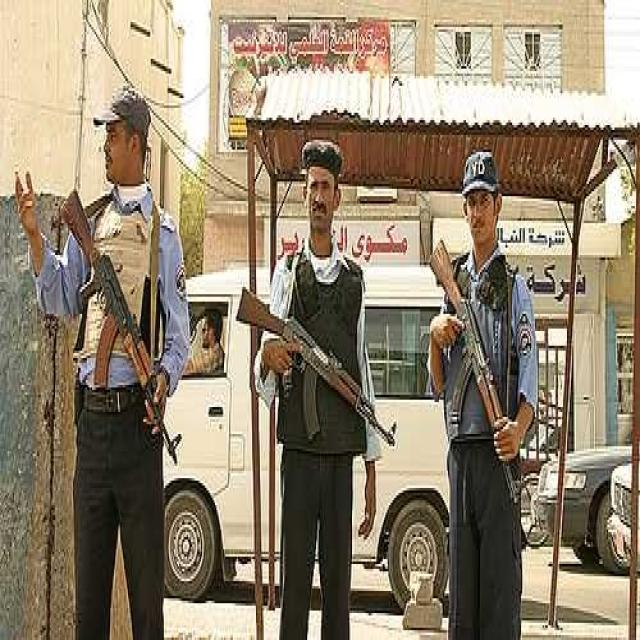Rifle: (52, 174, 188, 484), (235, 279, 401, 468), (420, 229, 522, 516)
